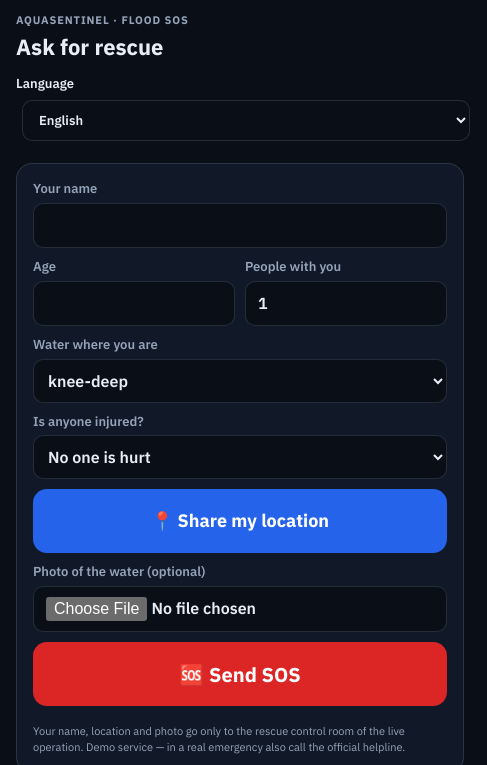
Test: citizen SOS page (F4) › validates the form before sending
Click the button "🆘 Send SOS" at (240, 674), box [33,642,447,706]
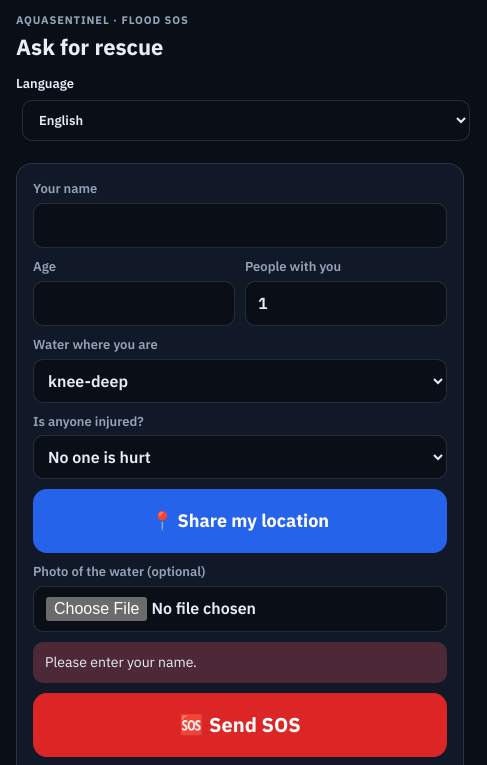
expect the text "Please enter your name." is shown: met, box [33,642,447,683]
Type "Meena" into the field labelled "Your name" at (240, 225), box [33,202,447,248]
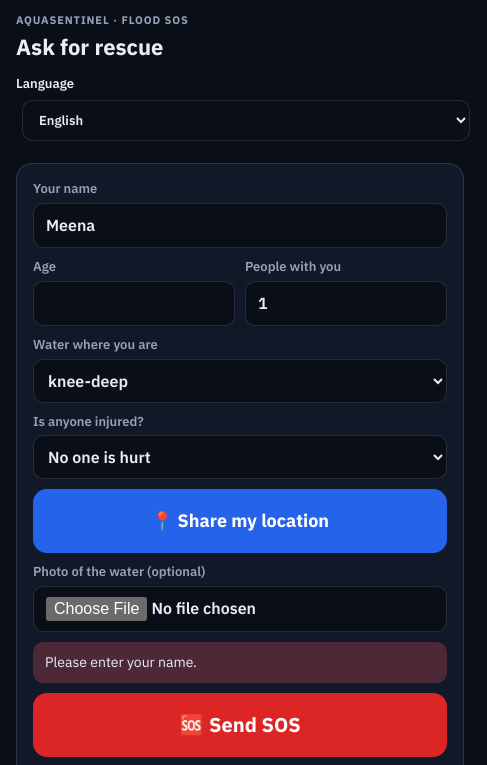
Click the button "🆘 Send SOS" at (240, 725), box [33,693,447,757]
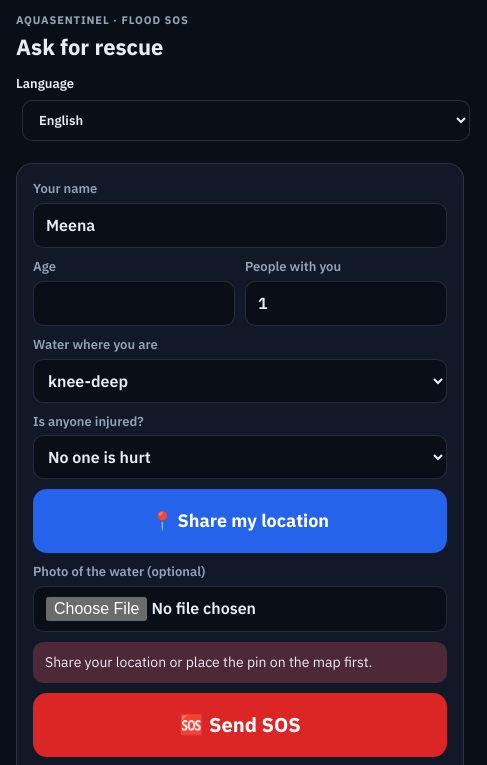
expect the text "Share your location or place the pin on the map first." is shown: met, box [33,642,447,683]
